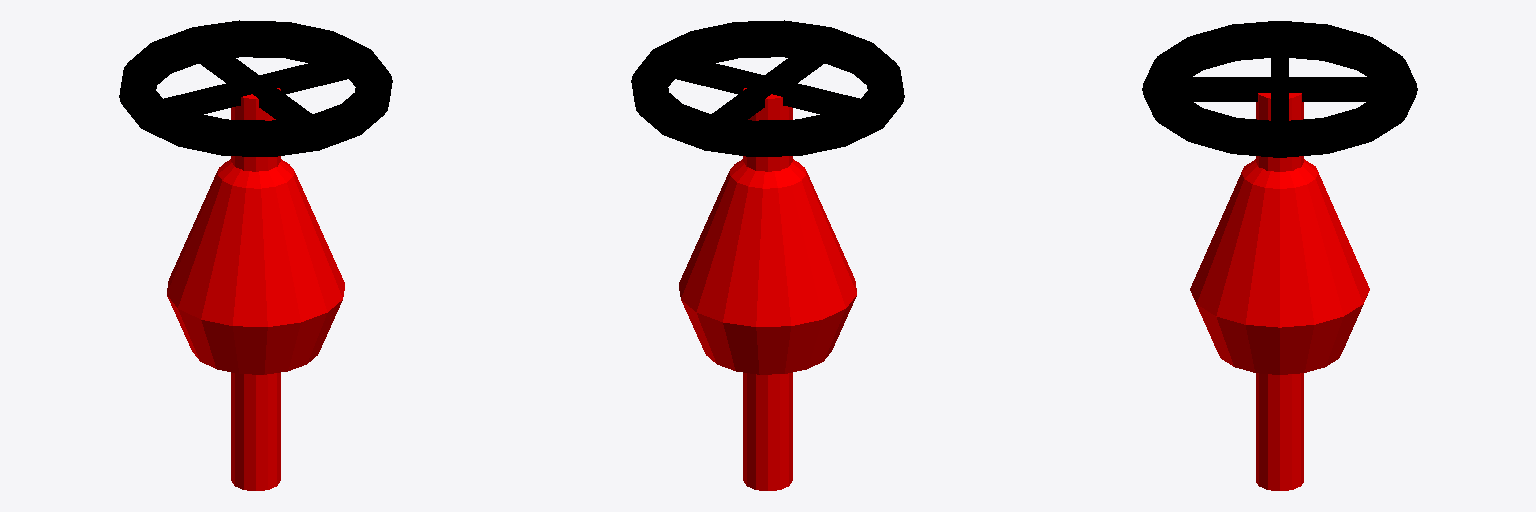
The robot description file, URDF, robot "drcbox-valve-small-0-robot":
<?xml version="1.0"?>
<robot name="drcbox-valve-small-0-robot"
       xmlns:xi="http://www.w3.org/2001/XInclude"
       xmlns:gazebo="http://playerstage.sourceforge.net/gazebo/xmlschema/#gz"
       xmlns:model="http://playerstage.sourceforge.net/gazebo/xmlschema/#model"
       xmlns:sensor="http://playerstage.sourceforge.net/gazebo/xmlschema/#sensor"
       xmlns:body="http://playerstage.sourceforge.net/gazebo/xmlschema/#body"
       xmlns:geom="http://playerstage.sourceforge.net/gazebo/xmlschema/#geom"
       xmlns:joint="http://playerstage.sourceforge.net/gazebo/xmlschema/#joint"
       xmlns:interface="http://playerstage.sourceforge.net/gazebo/xmlschema/#interface"
       xmlns:rendering="http://playerstage.sourceforge.net/gazebo/xmlschema/#rendering"
       xmlns:renderable="http://playerstage.sourceforge.net/gazebo/xmlschema/#renderable"
       xmlns:controller="http://playerstage.sourceforge.net/gazebo/xmlschema/#controller"
       xmlns:physics="http://playerstage.sourceforge.net/gazebo/xmlschema/#physics">
  <gazebo>
    <static>false</static>
  </gazebo>
  <link name="CRANK-ROOT-LINK_link">
    <visual>
      <origin xyz="0 0 0" rpy="0 -0 0"/>
      <geometry>
        <mesh filename="model://drcbox-valve-small-0/meshes/CRANK-ROOT-LINK_link_mesh.dae" scale="1 1 1" />
      </geometry>
    </visual>
    <collision>
      <origin xyz="0 0 0" rpy="0 -0 0"/>
      <geometry>
        <mesh filename="model://drcbox-valve-small-0/meshes/CRANK-ROOT-LINK_link_mesh.dae" scale="1 1 1" />
      </geometry>
    </collision>
    <inertial>
      <mass value="0.001" />
      <origin xyz="0 0 0" rpy="0 -0 0"/>
      <inertia ixx="1e-03" ixy="0" ixz="0" iyy="1e-03" iyz="0" izz="1e-03"/>
    </inertial>
  </link>
  <gazebo reference="CRANK-ROOT-LINK_link">
    <mu1>0.9</mu1>
    <mu2>0.9</mu2>
  </gazebo>
  <link name="VALVE-HANDLE-LINK_link">
    <visual>
      <origin xyz="0 0 0.353" rpy="0 -0 0"/>
      <geometry>
        <mesh filename="model://drcbox-valve-small-0/meshes/VALVE-HANDLE-LINK_link_mesh.dae" scale="1 1 1" />
      </geometry>
    </visual>
    <collision>
      <origin xyz="0 0 0.353" rpy="0 -0 0"/>
      <geometry>
        <mesh filename="model://drcbox-valve-small-0/meshes/VALVE-HANDLE-LINK_link_mesh.dae" scale="1 1 1" />
      </geometry>
    </collision>
    <inertial>
      <mass value="0.001" />
      <origin xyz="0 0 0" rpy="0 -0 0"/>
      <inertia ixx="1e-03" ixy="0" ixz="0" iyy="1e-03" iyz="0" izz="1e-03"/>
    </inertial>
  </link>
  <gazebo reference="VALVE-HANDLE-LINK_link">
    <mu1>0.9</mu1>
    <mu2>0.9</mu2>
  </gazebo>
  <joint name="CRANK-JOINT" type="revolute">
    <parent link="CRANK-ROOT-LINK_link"/>
    <child  link="VALVE-HANDLE-LINK_link"/>
    <origin xyz="0 0 0.353" rpy="0 -0 0 "/>
    <axis   xyz="0 0 1"/>
    <limit lower="-62.8319" upper="62.8319" effort="100" velocity="0.5" />
    <dynamics damping="0.2" friction="0" />
  </joint>
  <transmission type="pr2_mechanism_model/SimpleTransmission" name="CRANK-JOINT_trans" >
    <actuator name="CRANK-JOINT_motor" />
    <joint name="CRANK-JOINT" />
    <mechanicalReduction>1</mechanicalReduction>
  </transmission>
  <gazebo reference="CRANK-JOINT">
    <cfmDamping>0.4</cfmDamping>
  </gazebo>
</robot>

--- Render facts (derived) ---
Views: 3 orthographic renders of the robot side by side, from view 1: azimuth 30°, elevation 25°; view 2: azimuth 150°, elevation 25°; view 3: azimuth 270°, elevation 25°.
Robot: drcbox-valve-small-0-robot — 2 links, 1 joints (1 revolute); root link CRANK-ROOT-LINK_link; default pose: all joints at 0.
Visible links, largest first — view 1: CRANK-ROOT-LINK_link, VALVE-HANDLE-LINK_link; view 2: CRANK-ROOT-LINK_link, VALVE-HANDLE-LINK_link; view 3: CRANK-ROOT-LINK_link, VALVE-HANDLE-LINK_link.
Link boxes in pixels (x1=…): CRANK-ROOT-LINK_link: x1=167, y1=88, x2=344, y2=490; VALVE-HANDLE-LINK_link: x1=119, y1=20, x2=392, y2=156; CRANK-ROOT-LINK_link: x1=679, y1=88, x2=856, y2=490; VALVE-HANDLE-LINK_link: x1=631, y1=20, x2=904, y2=156; CRANK-ROOT-LINK_link: x1=1190, y1=93, x2=1369, y2=490; VALVE-HANDLE-LINK_link: x1=1142, y1=21, x2=1417, y2=157.
Bounding box of the posed robot: 0.225 × 0.225 × 0.368 m (x, y, z).
Meshes: 2 distinct files referenced, 2 mesh visuals loaded (2 Collada DAE).